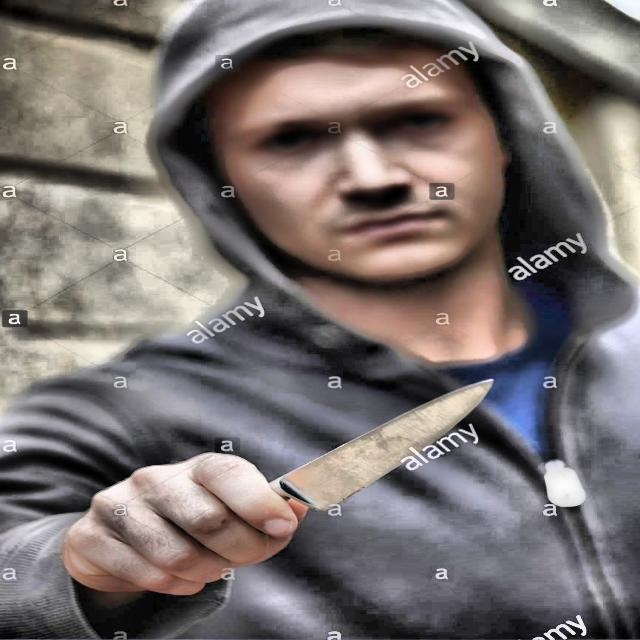knife: (267, 379, 489, 513)
